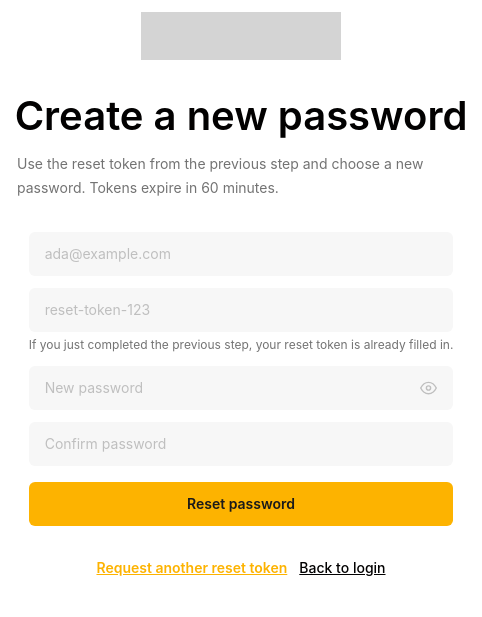
Test: ResetPassword › prefills stored reset details and blocks mismatched passwords
The image size is (482, 617).
Expected: the 1st field with placeholder "Email" holds "ada@example.com", top-left (29, 232), bottom-right (453, 276)
Expected: the 2nd field with placeholder "Reset token" holds "reset-token-123", top-left (29, 288), bottom-right (453, 332)
In the password field with placeholder "New password": [241, 388] box top-left (29, 366), bottom-right (453, 410), type "Password1"
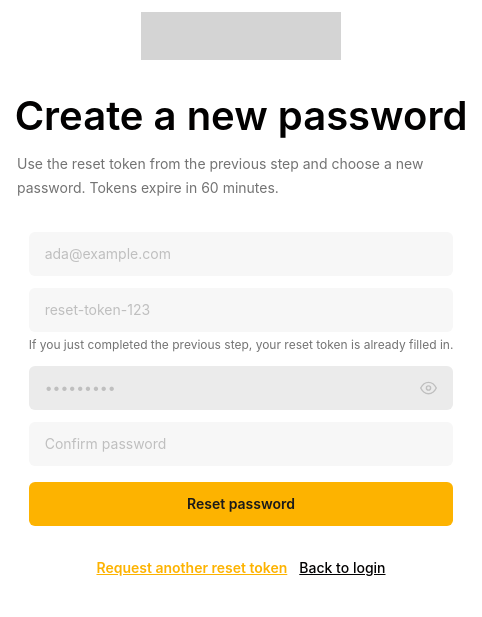
In the password field with placeholder "Confirm password": [241, 444] box top-left (29, 422), bottom-right (453, 466), type "Mismatch1"
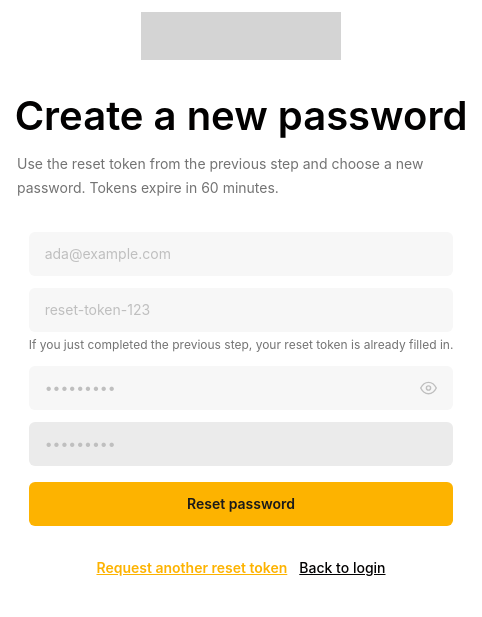
Click the button "Reset password": [241, 504] box top-left (29, 482), bottom-right (453, 526)
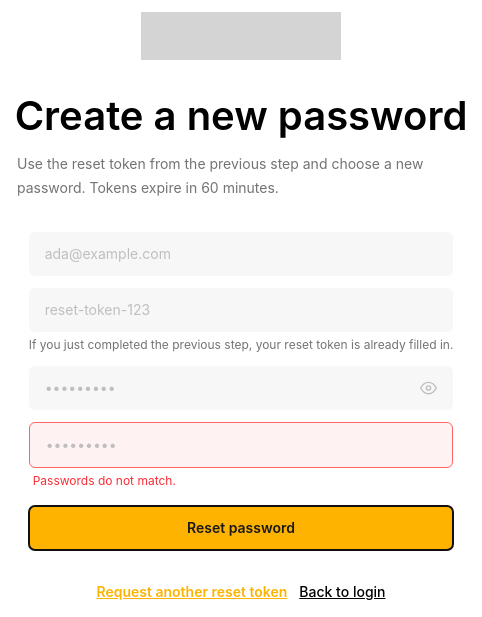
Now the text "Passwords do not match." is shown, box top-left (33, 473), bottom-right (176, 488)
